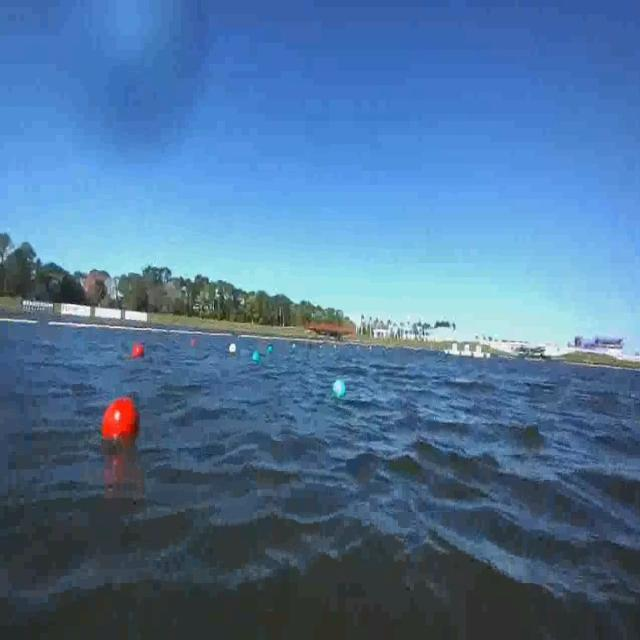green-buoy: (334, 377, 347, 398), (252, 351, 260, 362), (268, 346, 274, 354)
red-buoy: (100, 393, 143, 448), (133, 344, 146, 361)
yellow-buoy: (230, 341, 237, 356)
